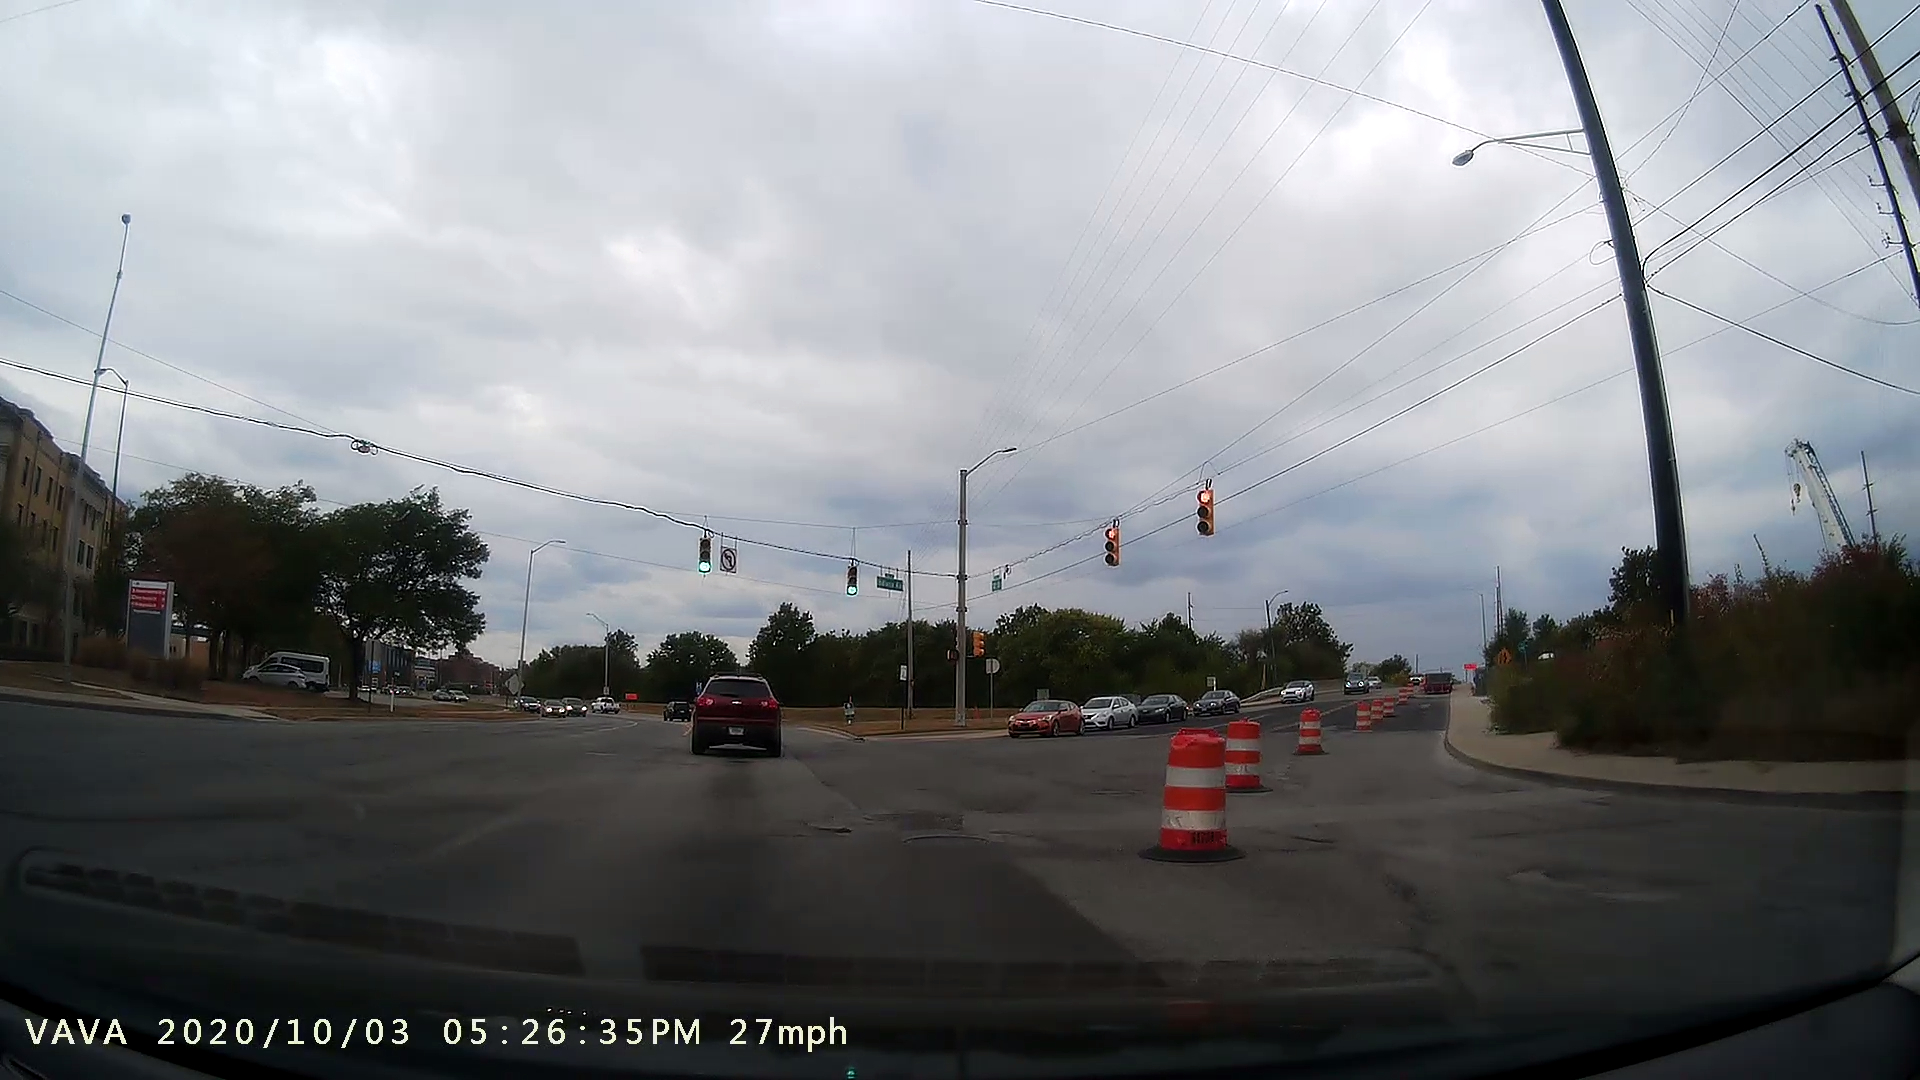const_barrel: (1134, 715, 1240, 865), (1226, 709, 1270, 796), (1287, 700, 1337, 765)
